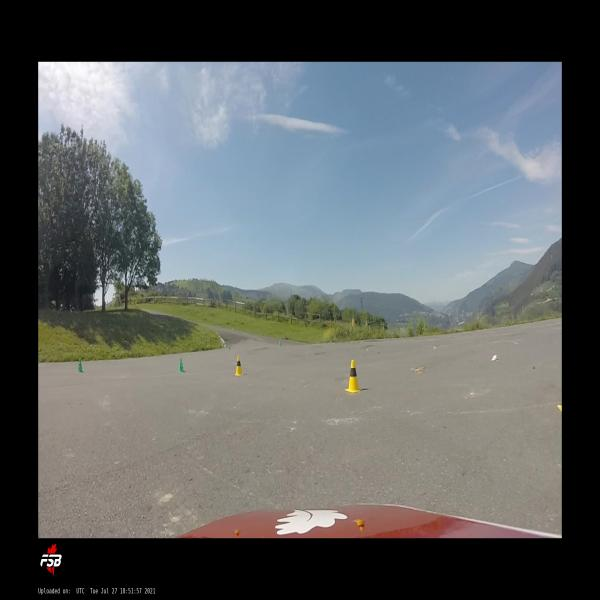unknown_cone: (179, 358, 185, 372), (78, 358, 83, 373)
yellow_cone: (344, 360, 362, 393), (235, 355, 244, 376)
